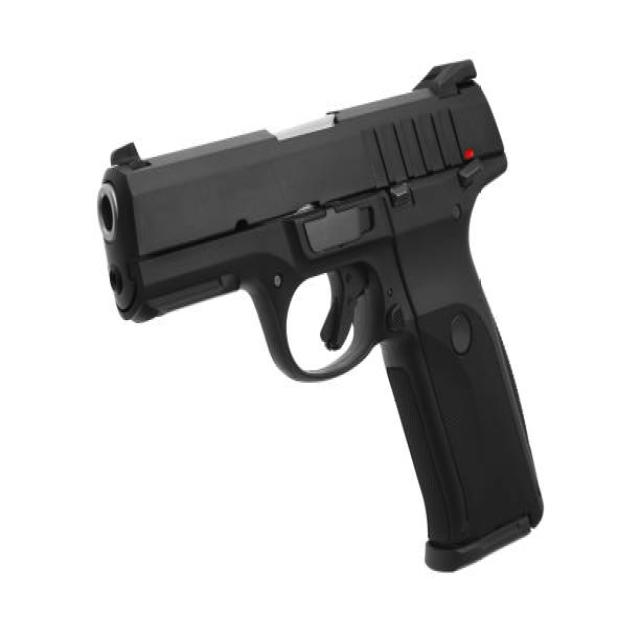pistol: (90, 58, 553, 589)
